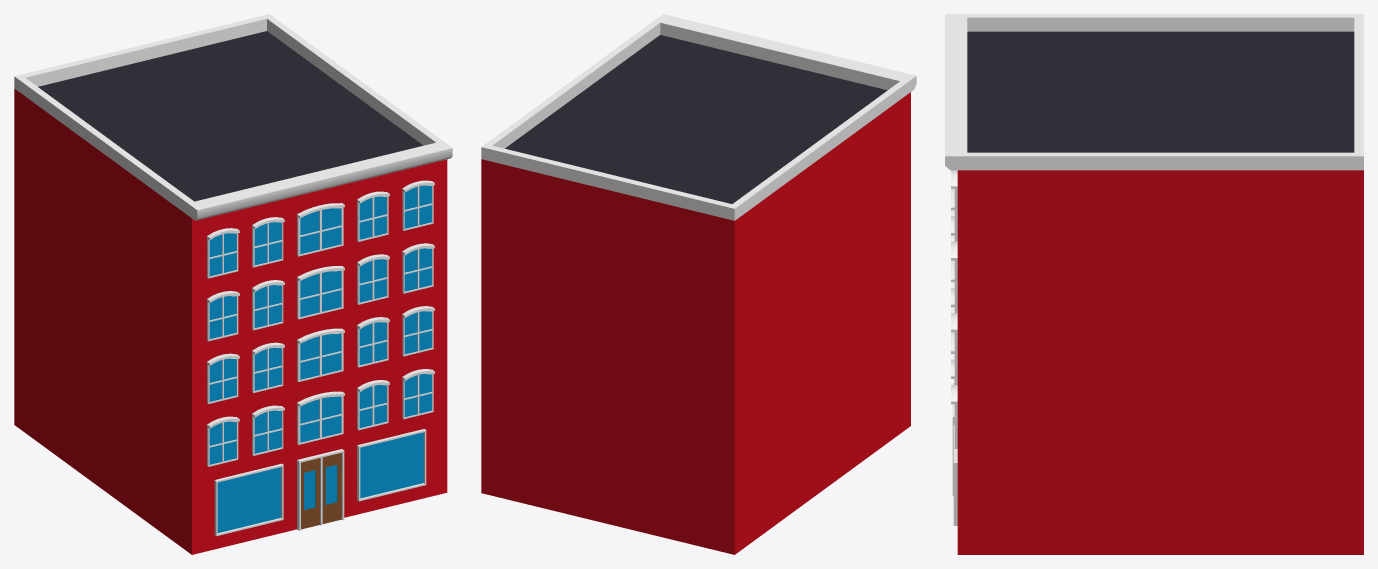
Rendered from Building_19.fbx.
3 views of the same model, side by side, from view 1: azimuth 30°, elevation 25°; view 2: azimuth 150°, elevation 25°; view 3: azimuth 270°, elevation 25° (orthographic). The views are drawn at different scales.
Visible parts, largest first — view 1: B19; view 2: B19; view 3: B19.
Part boxes in pixels (<box>): B19: <box>14,14,452,554</box>; B19: <box>481,14,916,554</box>; B19: <box>945,14,1363,554</box>.
Bounding box in the file's own units: 16.42 × 21.44 × 20.42.
1 material, 1 textured.
